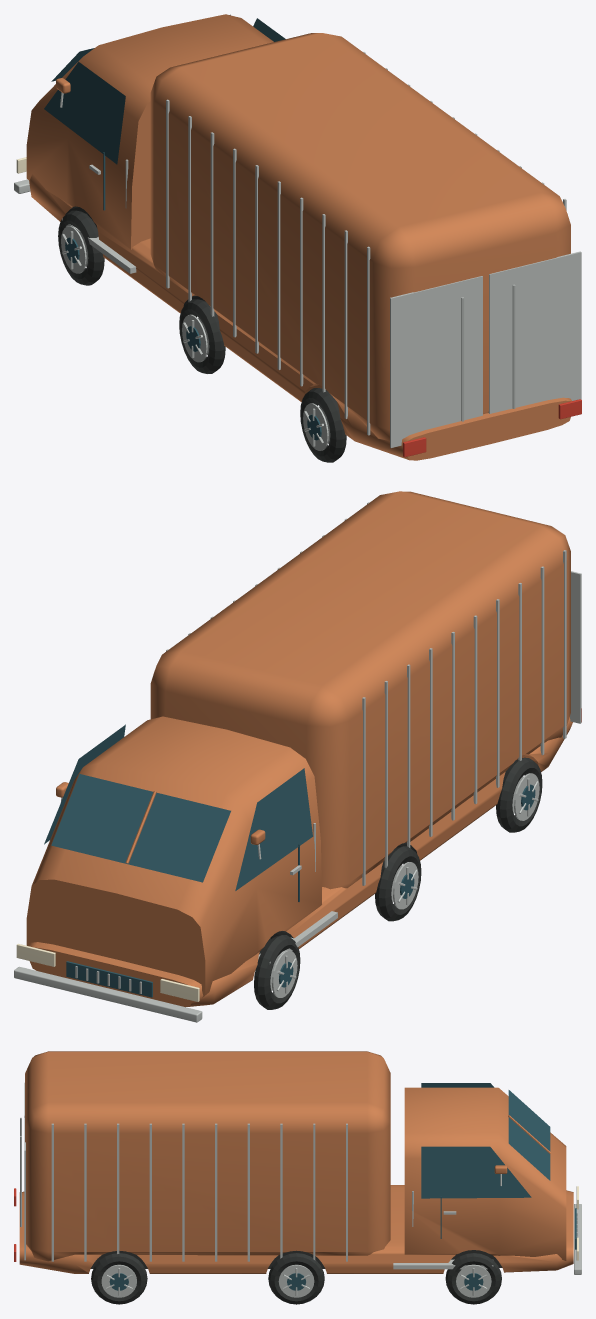
File: truck_detail.glb
3 views of the same model, one above another, from view 1: azimuth 30°, elevation 25°; view 2: azimuth 150°, elevation 25°; view 3: azimuth 270°, elevation 25° (orthographic). The views are drawn at different scales.
Visible parts, largest first — view 1: TruckModel traffic_copper, TruckModel traffic_metal, TruckModel traffic_glass, Rounded road tire.001, Rounded road tire, Rounded road tire.002, Spin.001 traffic_metal, Spin traffic_metal, Spin.002 traffic_metal, TruckModel traffic_red; view 2: TruckModel traffic_copper, TruckModel traffic_glass, TruckModel traffic_metal, Rounded road tire.002, Rounded road tire, Rounded road tire.001, TruckModel traffic_light, Spin traffic_metal, Spin.001 traffic_metal, Spin.002 traffic_metal; view 3: TruckModel traffic_copper, TruckModel traffic_glass, TruckModel traffic_metal, Rounded road tire.003, Rounded road tire.004, Rounded road tire.005, Spin.004 traffic_metal, Spin.003 traffic_metal, Spin.005 traffic_metal.
Boxes of the visible parts, bbox=[...] form: TruckModel traffic_copper: bbox=[26, 14, 571, 460]; TruckModel traffic_metal: bbox=[14, 52, 581, 447]; TruckModel traffic_glass: bbox=[44, 14, 285, 210]; Rounded road tire.001: bbox=[179, 299, 225, 373]; Rounded road tire: bbox=[300, 388, 346, 462]; Rounded road tire.002: bbox=[58, 210, 104, 285]; Spin.001 traffic_metal: bbox=[182, 314, 209, 362]; Spin traffic_metal: bbox=[303, 403, 330, 450]; Spin.002 traffic_metal: bbox=[61, 226, 88, 273]; TruckModel traffic_red: bbox=[403, 399, 581, 457]; TruckModel traffic_copper: bbox=[26, 491, 572, 1007]; TruckModel traffic_glass: bbox=[44, 724, 312, 997]; TruckModel traffic_metal: bbox=[14, 502, 581, 1022]; Rounded road tire.002: bbox=[254, 935, 300, 1009]; Rounded road tire: bbox=[496, 757, 542, 832]; Rounded road tire.001: bbox=[375, 846, 421, 921]; TruckModel traffic_light: bbox=[16, 943, 199, 1001]; Spin traffic_metal: bbox=[512, 773, 539, 820]; Spin.001 traffic_metal: bbox=[391, 862, 418, 909]; Spin.002 traffic_metal: bbox=[270, 950, 297, 997]; TruckModel traffic_copper: bbox=[19, 1051, 573, 1273]; TruckModel traffic_glass: bbox=[421, 1083, 576, 1249]; TruckModel traffic_metal: bbox=[20, 1082, 581, 1274]; Rounded road tire.003: bbox=[91, 1253, 147, 1304]; Rounded road tire.004: bbox=[268, 1253, 324, 1304]; Rounded road tire.005: bbox=[445, 1253, 501, 1304]; Spin.004 traffic_metal: bbox=[278, 1264, 314, 1297]; Spin.003 traffic_metal: bbox=[101, 1264, 136, 1297]; Spin.005 traffic_metal: bbox=[456, 1265, 491, 1297].
Size of the model in its own units: 2.5 by 2.89 by 7.74.
